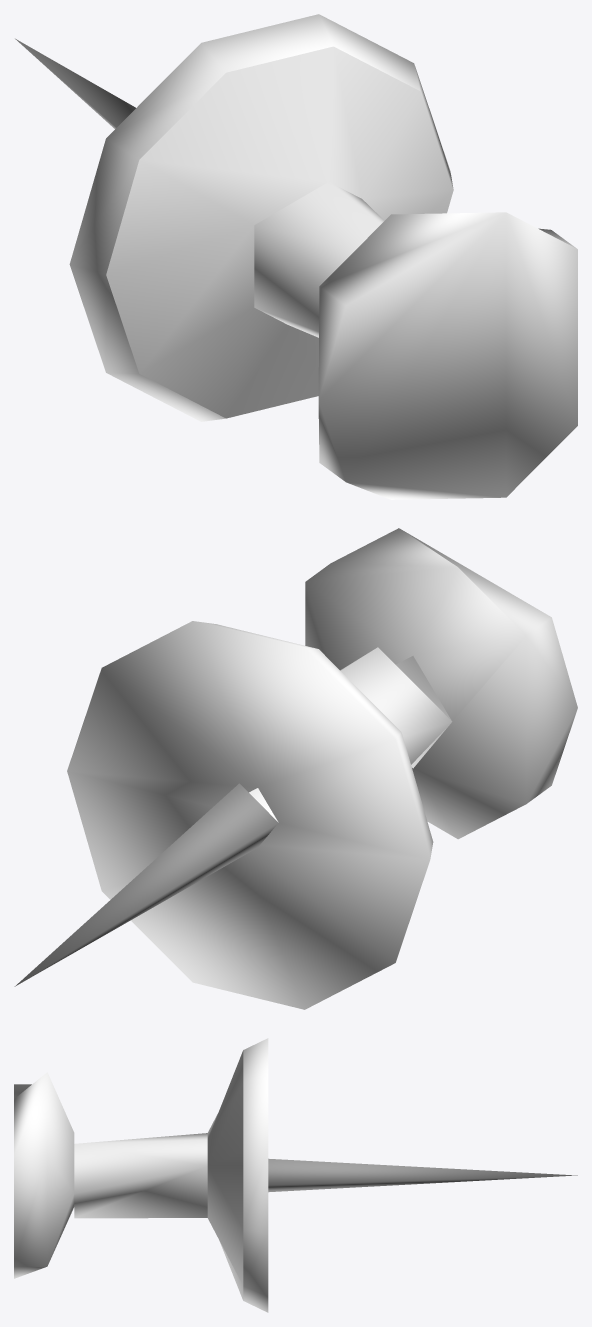
File: thumbtack_lod2.fbx
The picture shows the model from 3 angles, top to bottom: view 1: azimuth 30°, elevation 25°; view 2: azimuth 150°, elevation 25°; view 3: azimuth 270°, elevation 25°; orthographic projection. The views are drawn at different scales.
Parts seen in each view (by area): view 1: Thumb, pin; view 2: Thumb, pin; view 3: Thumb, pin.
Boxes of the visible parts, <box> form: Thumb: <box>69,14,577,499</box>; pin: <box>15,38,135,128</box>; Thumb: <box>67,528,577,1009</box>; pin: <box>14,783,278,986</box>; Thumb: <box>14,1038,268,1312</box>; pin: <box>268,1158,577,1192</box>.
Bounding box in the file's own units: 0.5313 × 0.5053 × 1.08.
